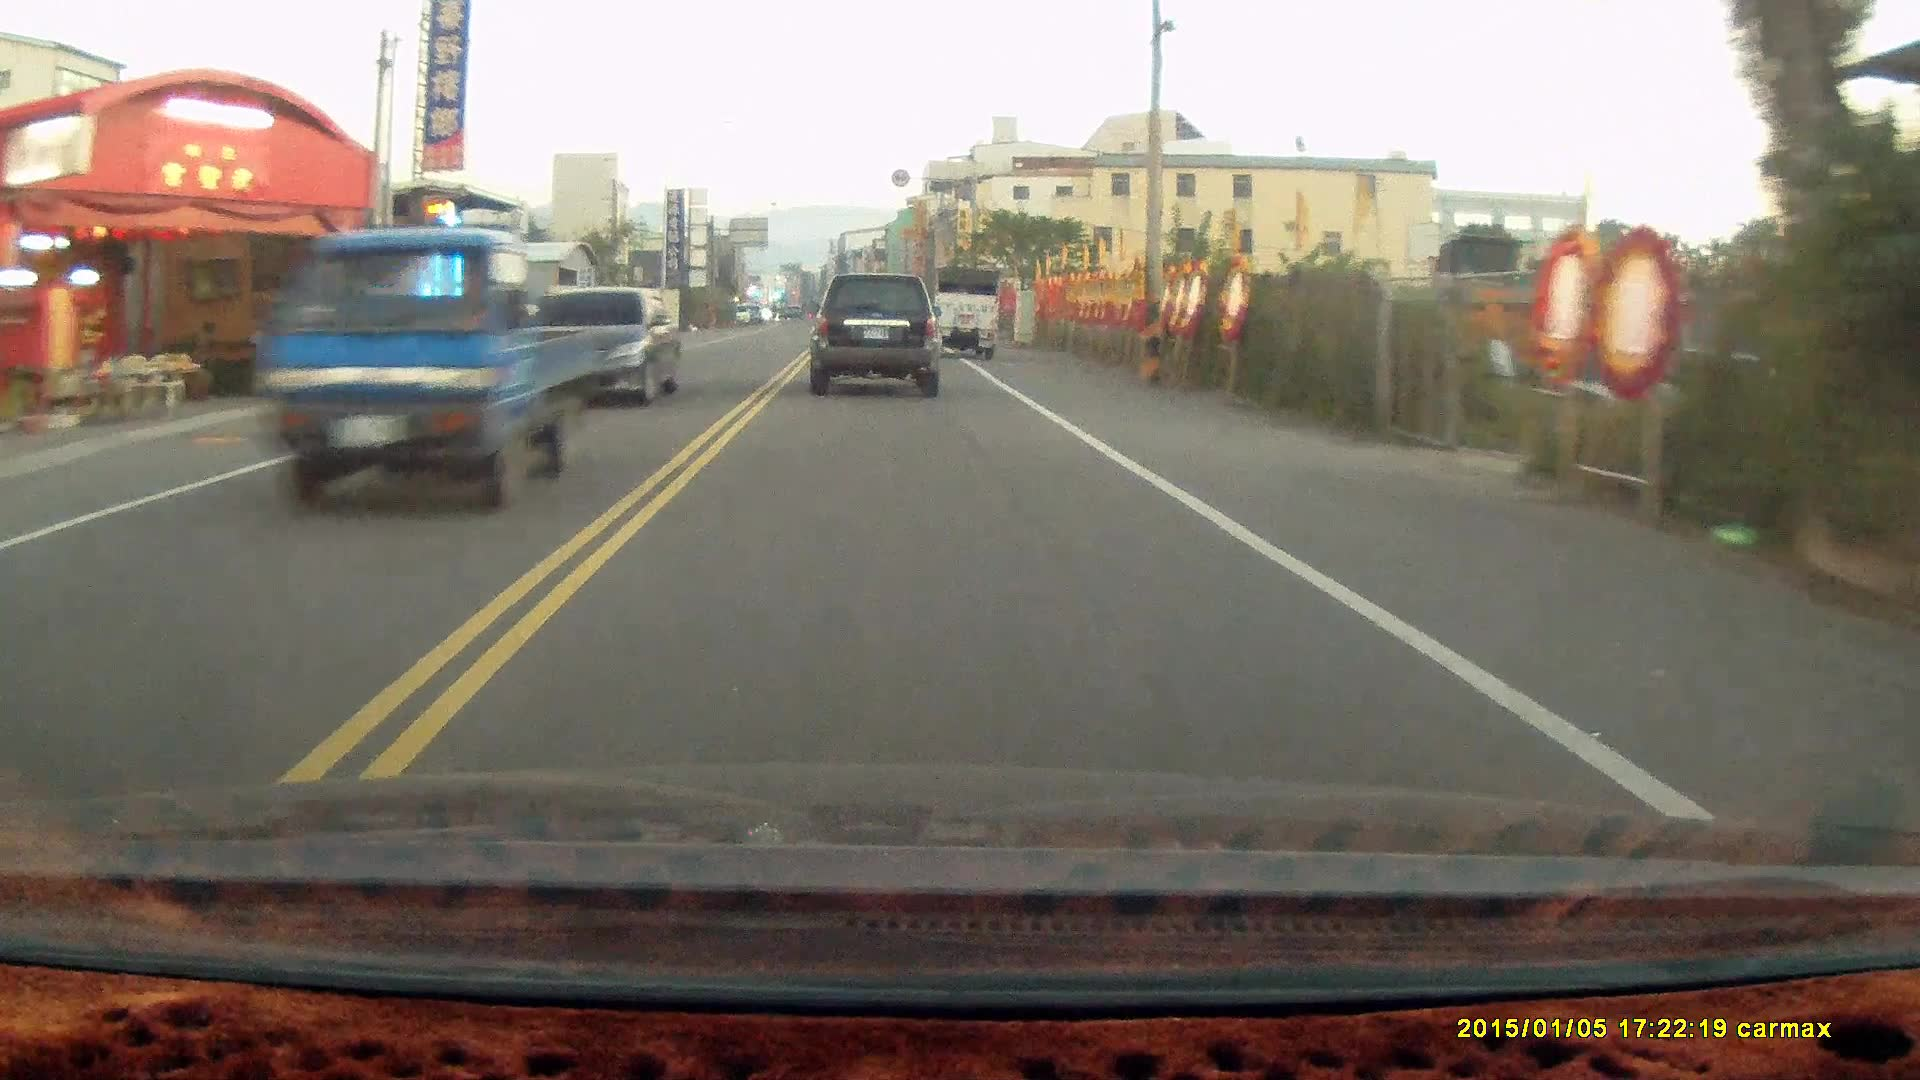vehicle: (247, 225, 604, 504), (531, 284, 680, 410), (807, 269, 943, 397), (931, 262, 1004, 357)
